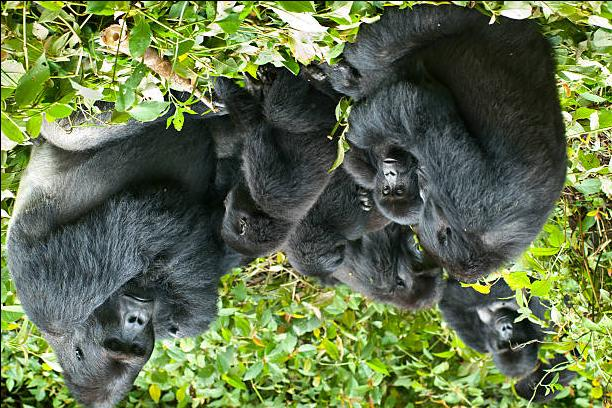goriile_montagne: (6, 111, 216, 407), (333, 22, 562, 289), (212, 74, 342, 249), (436, 286, 556, 372), (335, 236, 436, 319), (358, 150, 422, 230)
